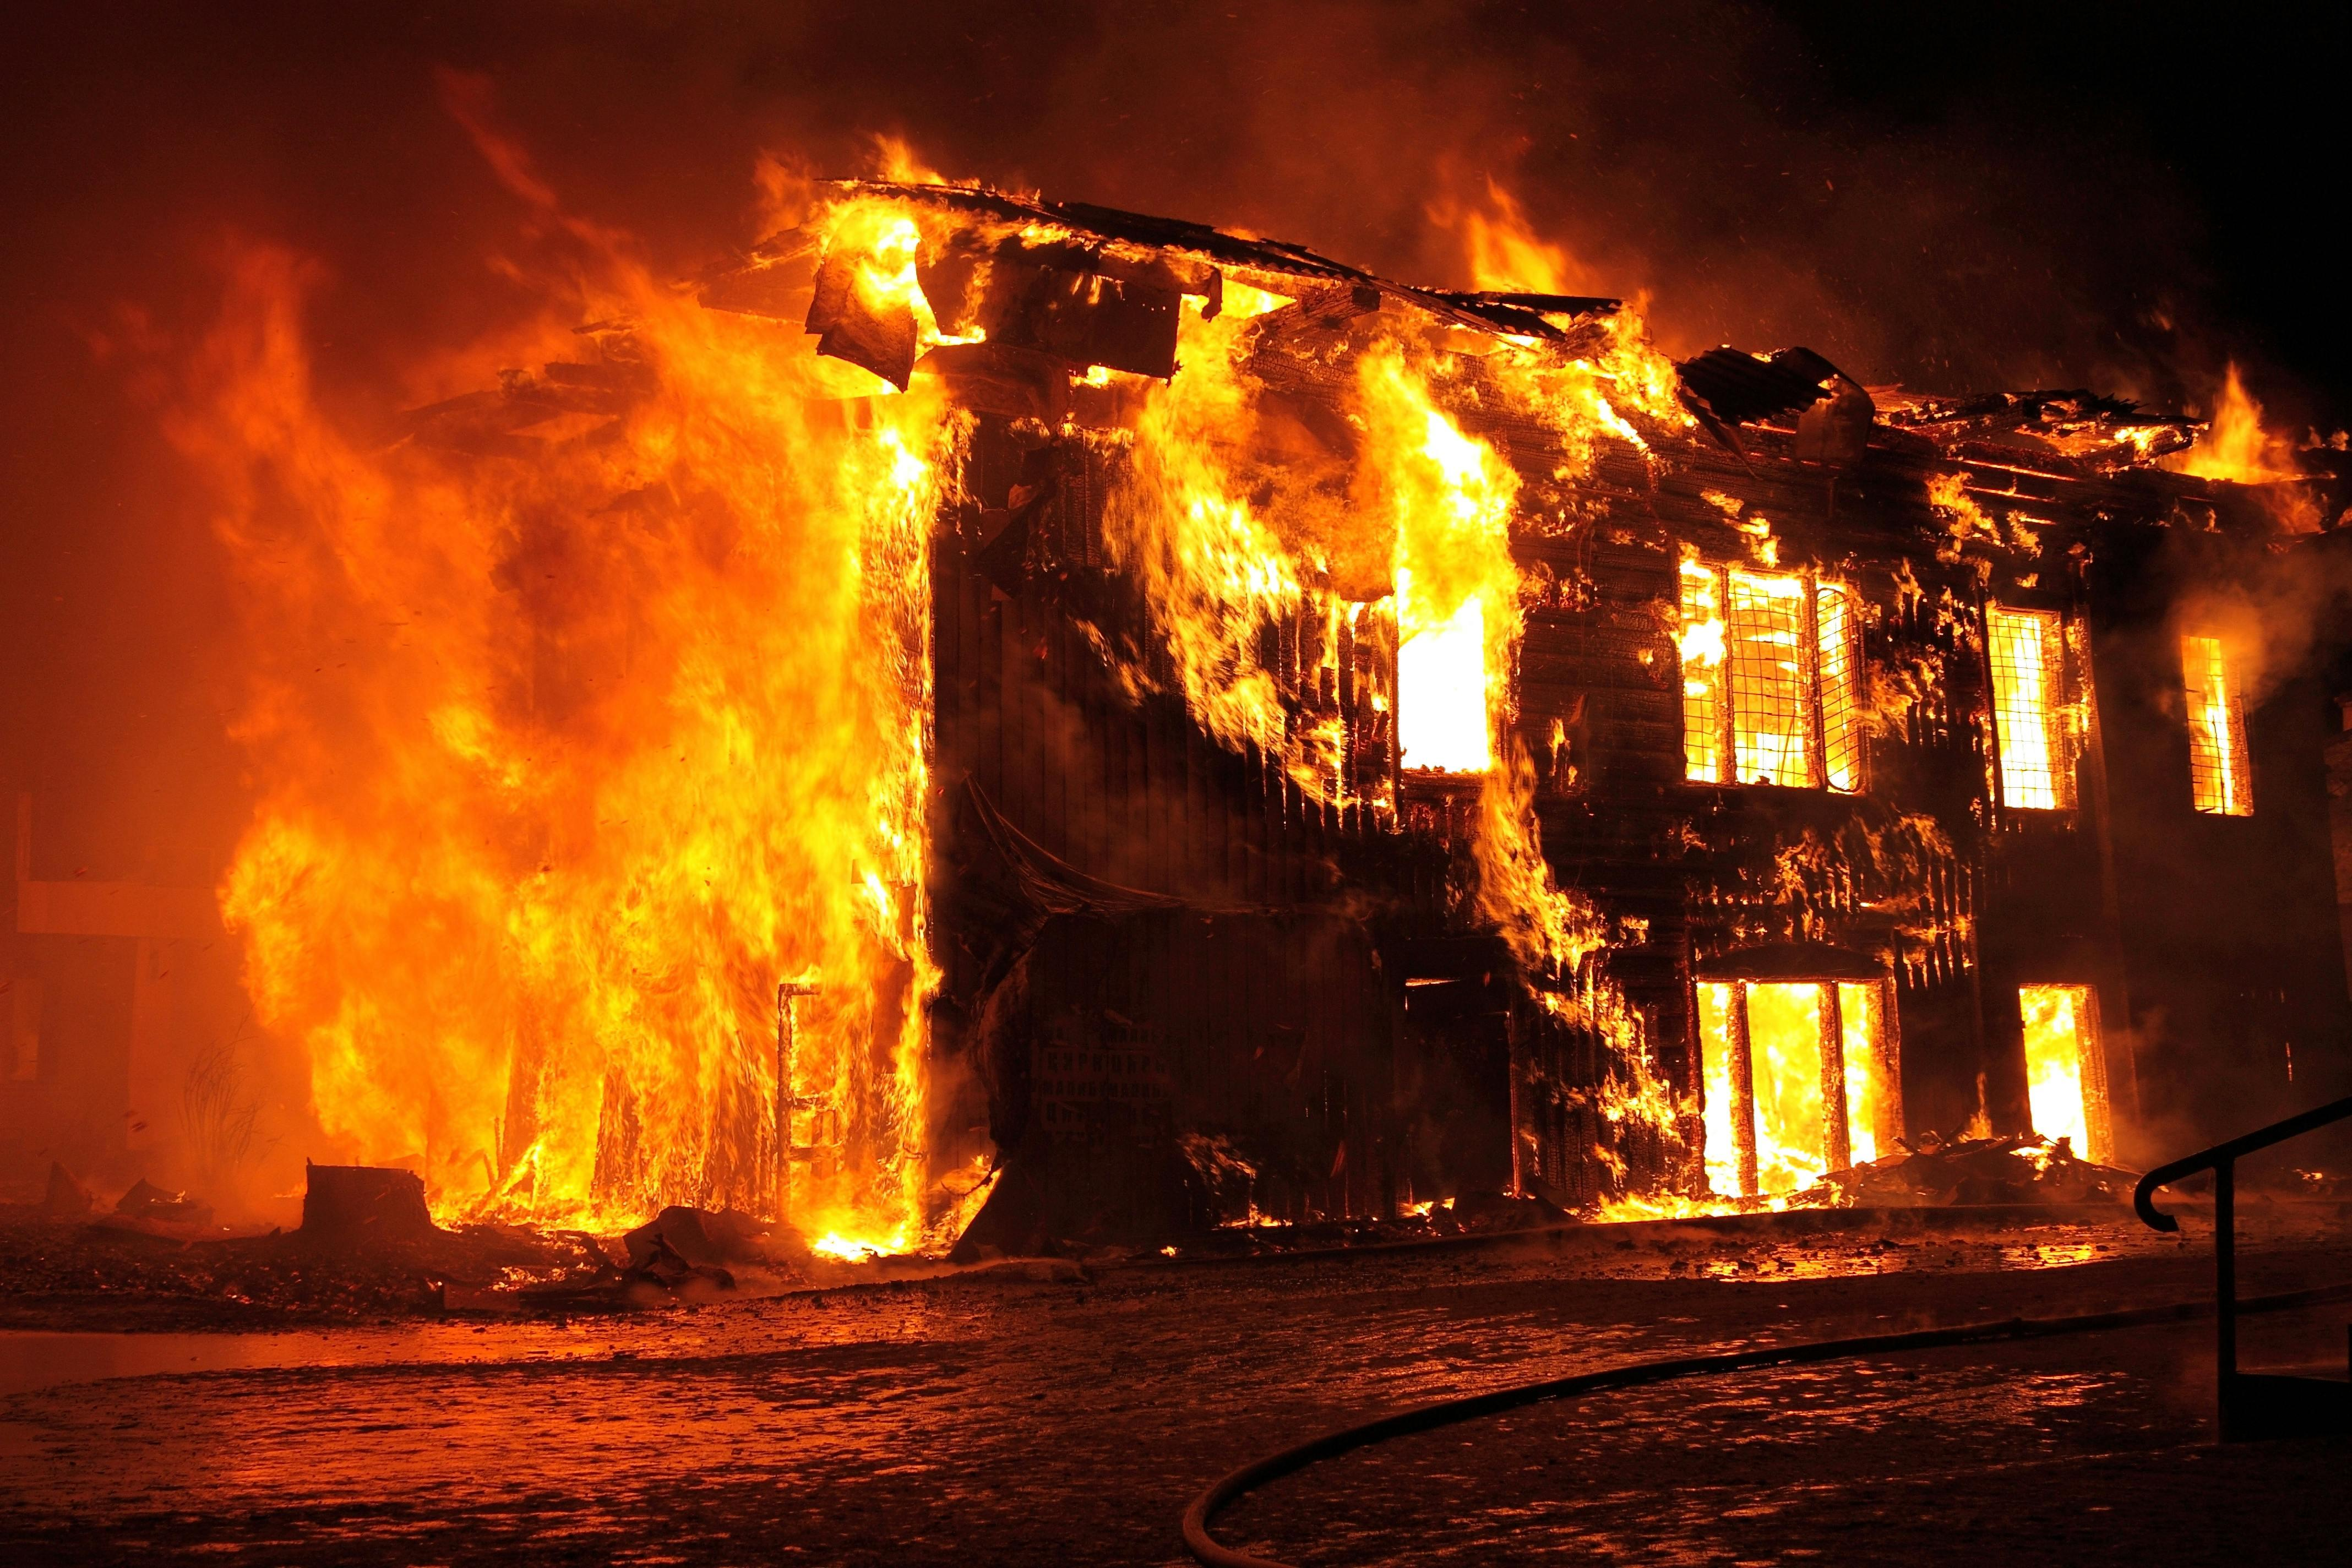smoke: (182, 149, 963, 1279), (966, 161, 1678, 775), (1702, 304, 2352, 574), (1410, 760, 1690, 1245), (1688, 956, 1910, 1243), (1656, 537, 1883, 794), (1977, 590, 2106, 821), (2180, 591, 2283, 841), (2006, 975, 2111, 1159)
